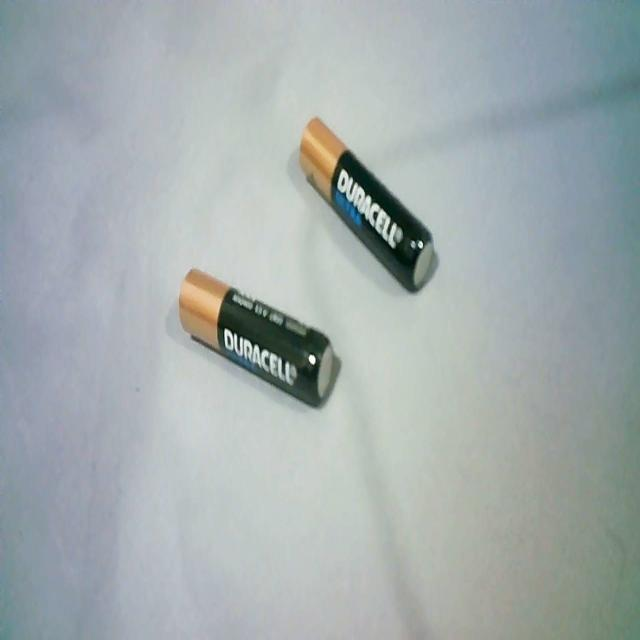AAA: (295, 110, 439, 296), (174, 267, 338, 426)
